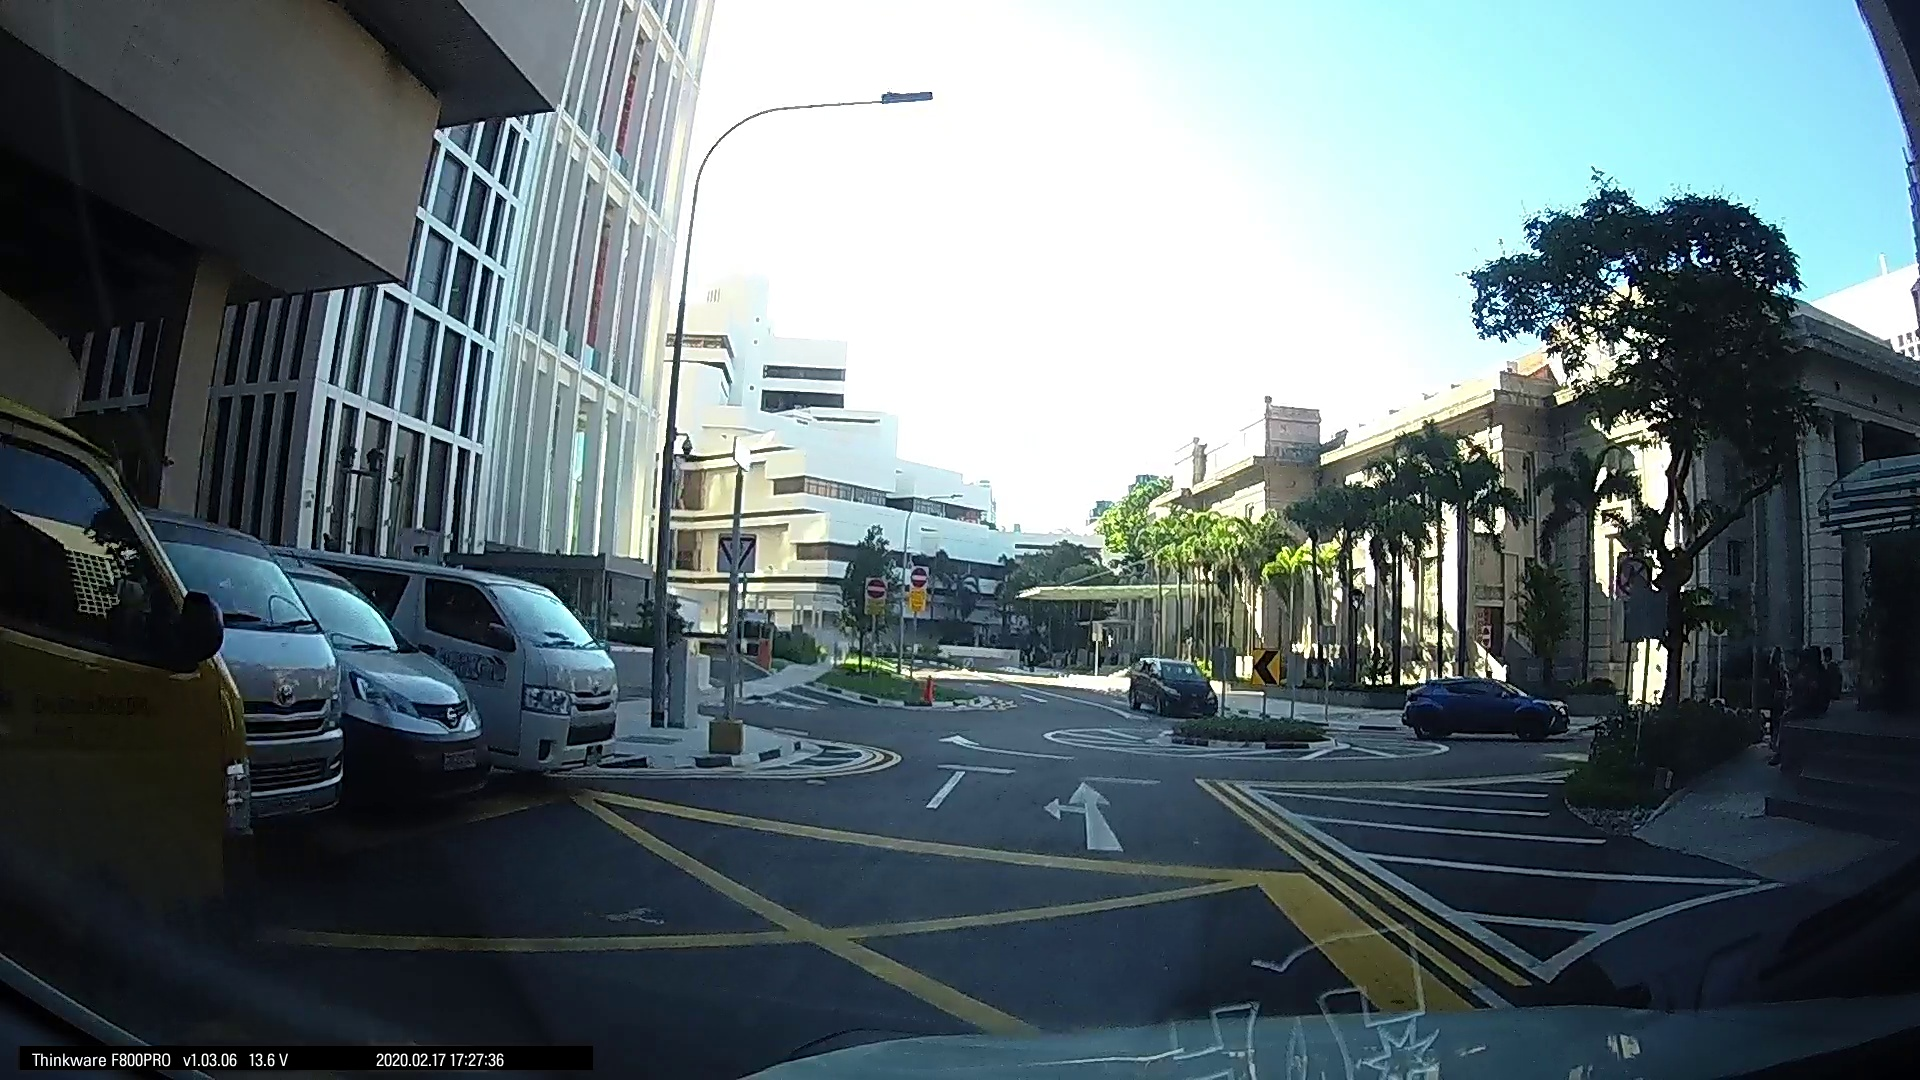Light Vehicle: (4, 418, 378, 914), (345, 555, 629, 781), (1396, 671, 1568, 738), (1122, 654, 1218, 719)
